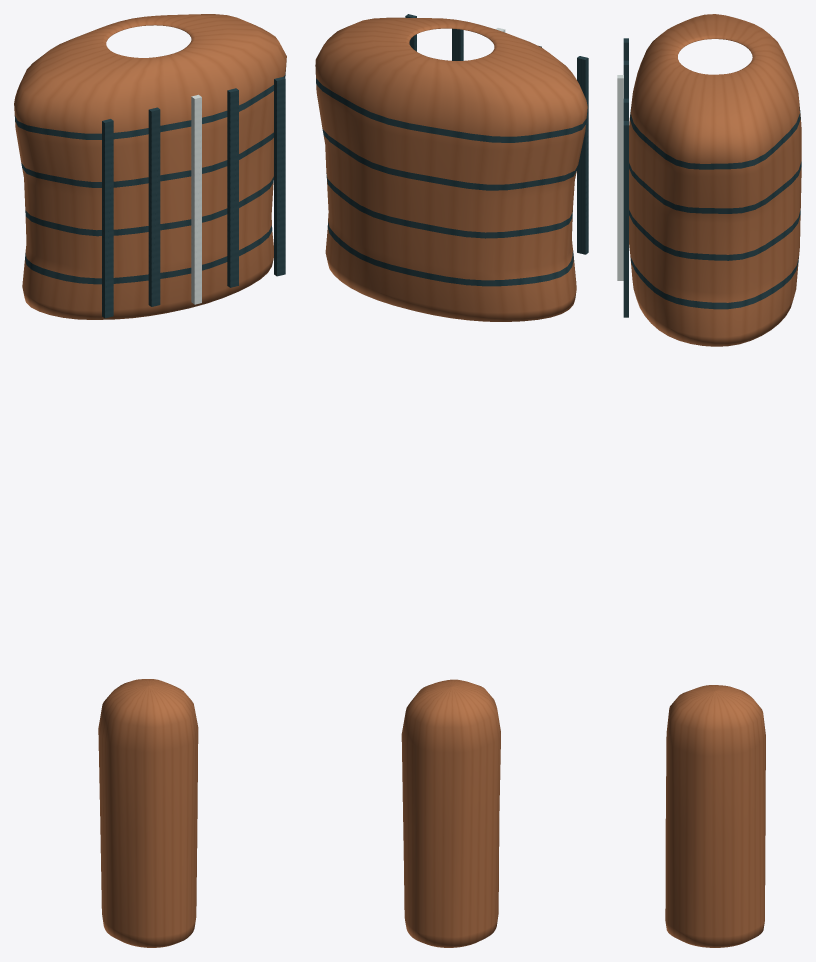
Rendered from reference_flannel_shirt.gltf.
3 views of the same model, side by side, from view 1: azimuth 30°, elevation 25°; view 2: azimuth 150°, elevation 25°; view 3: azimuth 270°, elevation 25° (orthographic).
Visible parts, largest first — view 1: Torso, SleeveL; view 2: Torso, SleeveL; view 3: Torso, SleeveL.
Part boxes in pixels (<box>): Torso: <box>14,14,286,319</box>; SleeveL: <box>98,679,198,947</box>; Torso: <box>315,14,588,321</box>; SleeveL: <box>401,679,500,947</box>; Torso: <box>617,14,801,346</box>; SleeveL: <box>665,685,765,947</box>.
Size of the model in its own units: 0.527 by 1.73 by 0.3297.
Materials: 3 (3 with a texture image).
